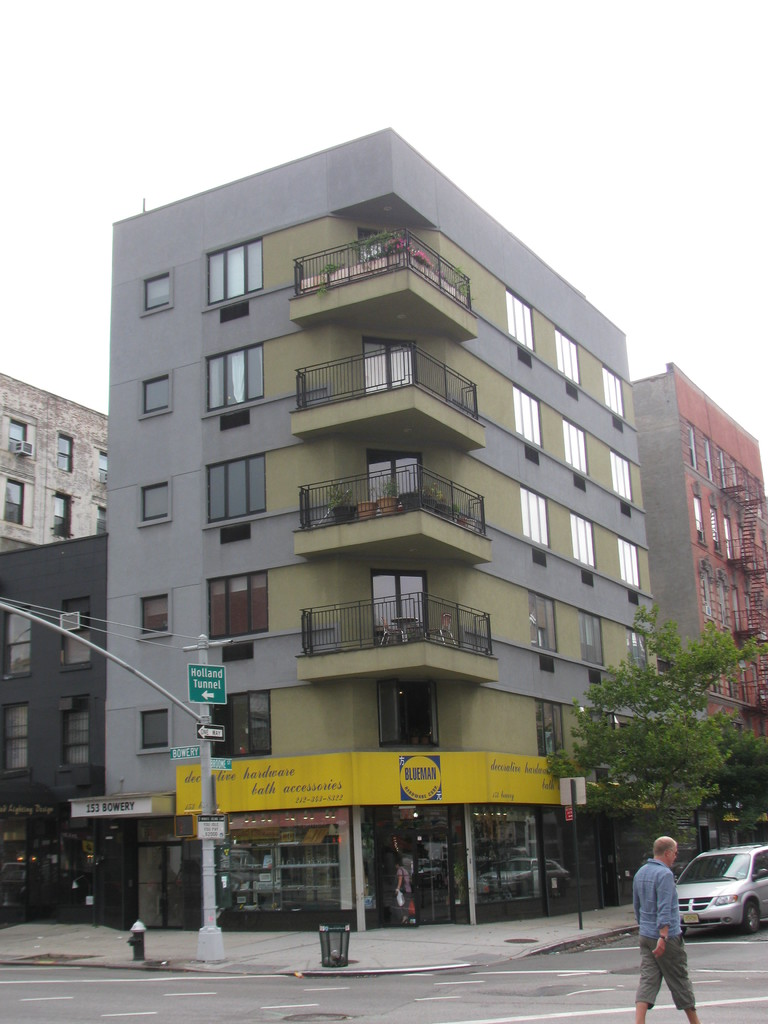Car: (676, 845, 767, 935)
